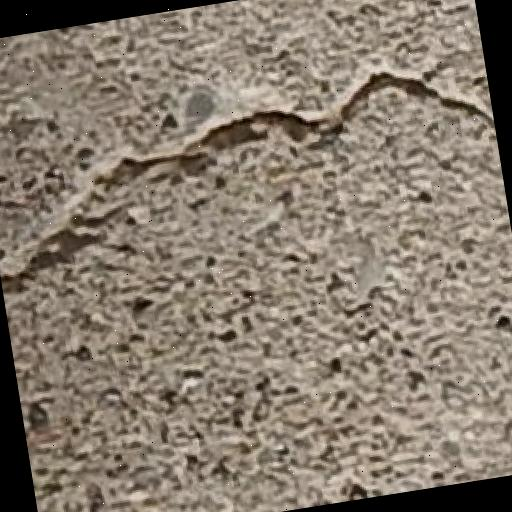spalling: (5, 36, 482, 303)
